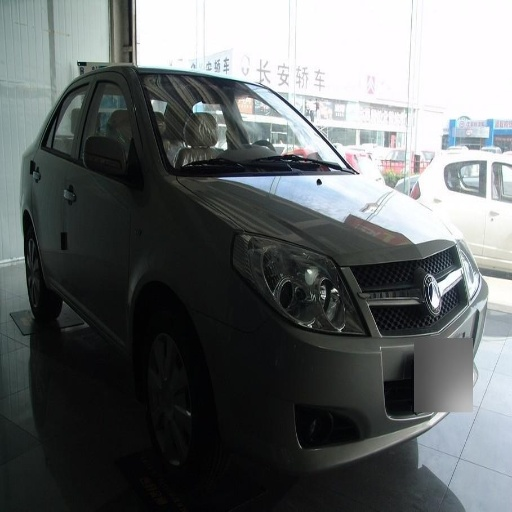front_bumper: (199, 249, 486, 471)
front_right_door: (63, 70, 142, 323)
front_right_light: (235, 234, 368, 334)
